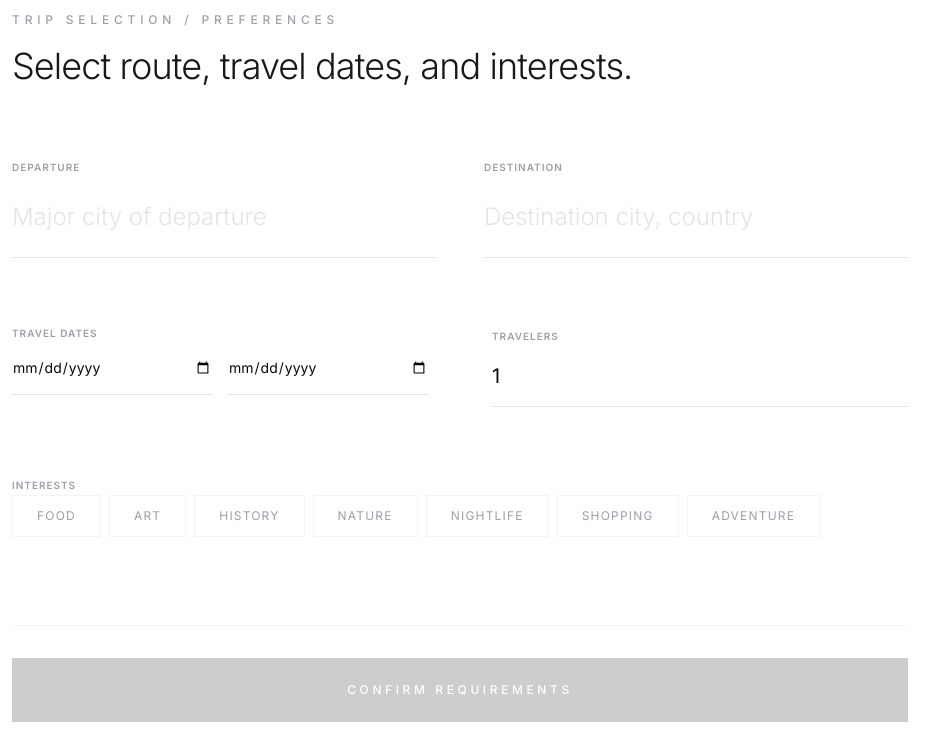
TripForm component › enables confirm button when all required fields are filled
Type "New York" into the field with placeholder "Major city of departure" at [224, 218], box top-left (12, 177), bottom-right (436, 258)
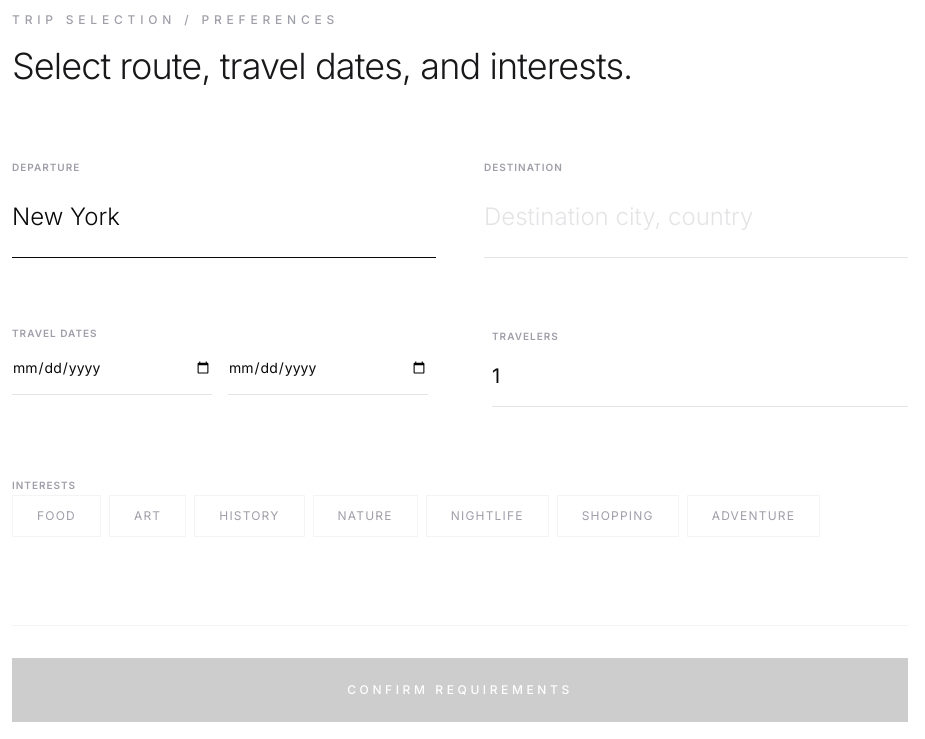
Fill destination
Type "Paris" into the field with placeholder "Destination city, country" at [696, 218], box top-left (484, 177), bottom-right (908, 258)
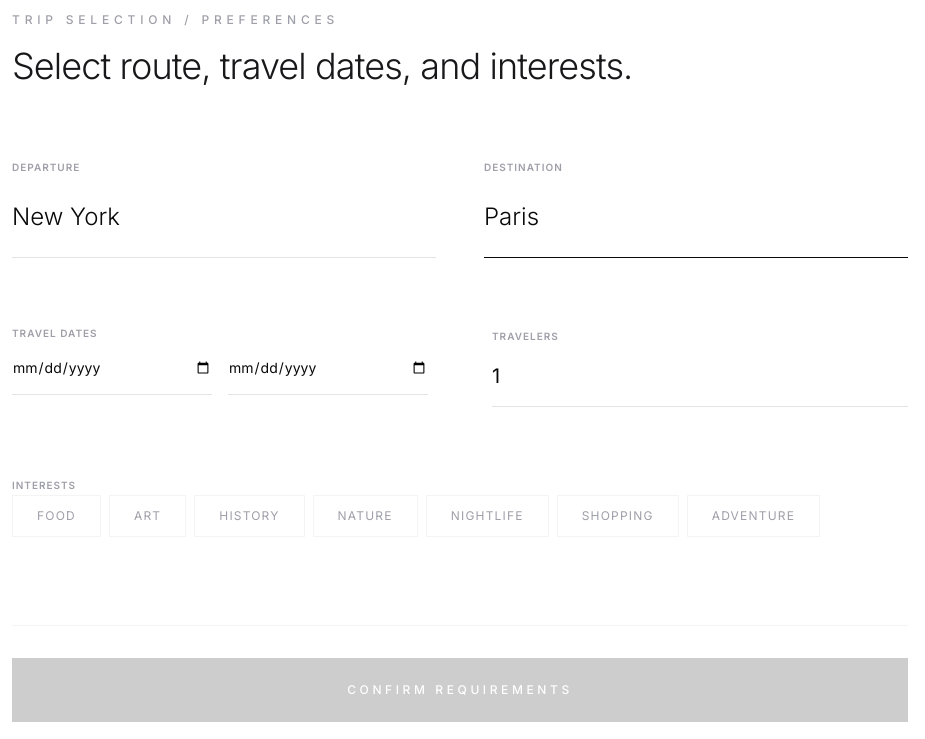
Fill dates
Type "2025-09-01" into the date field with id "start-date-input" at [112, 368], box top-left (12, 342), bottom-right (212, 395)
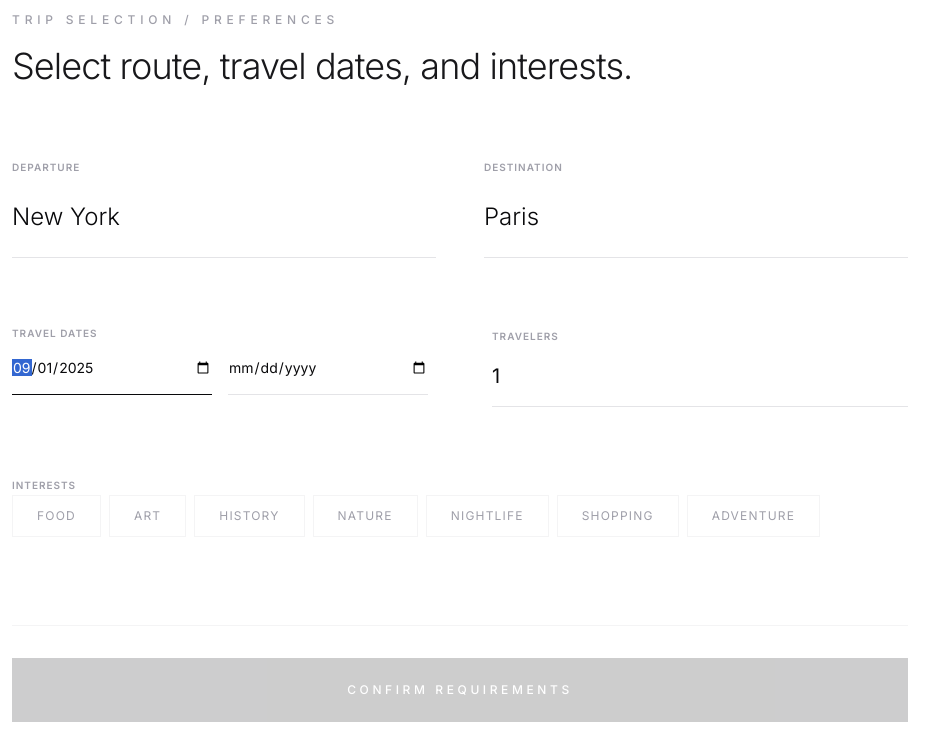
Type "2025-09-08" into the date field with id "end-date-input" at [328, 368], box top-left (228, 342), bottom-right (428, 395)
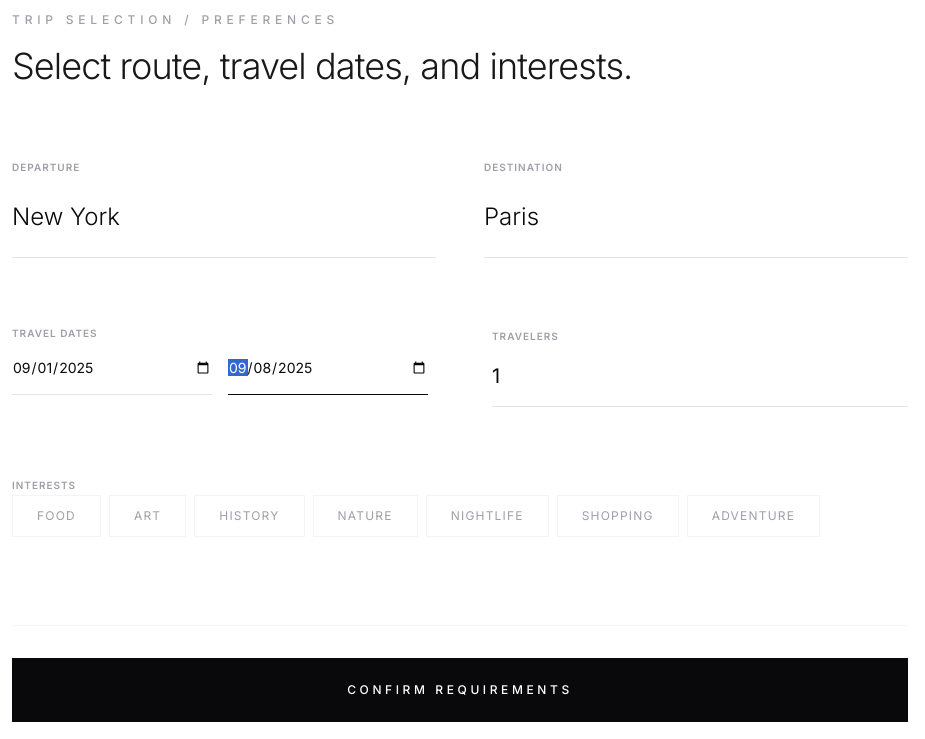
Now the button "Confirm Requirements" is enabled, box top-left (12, 658), bottom-right (908, 722)
